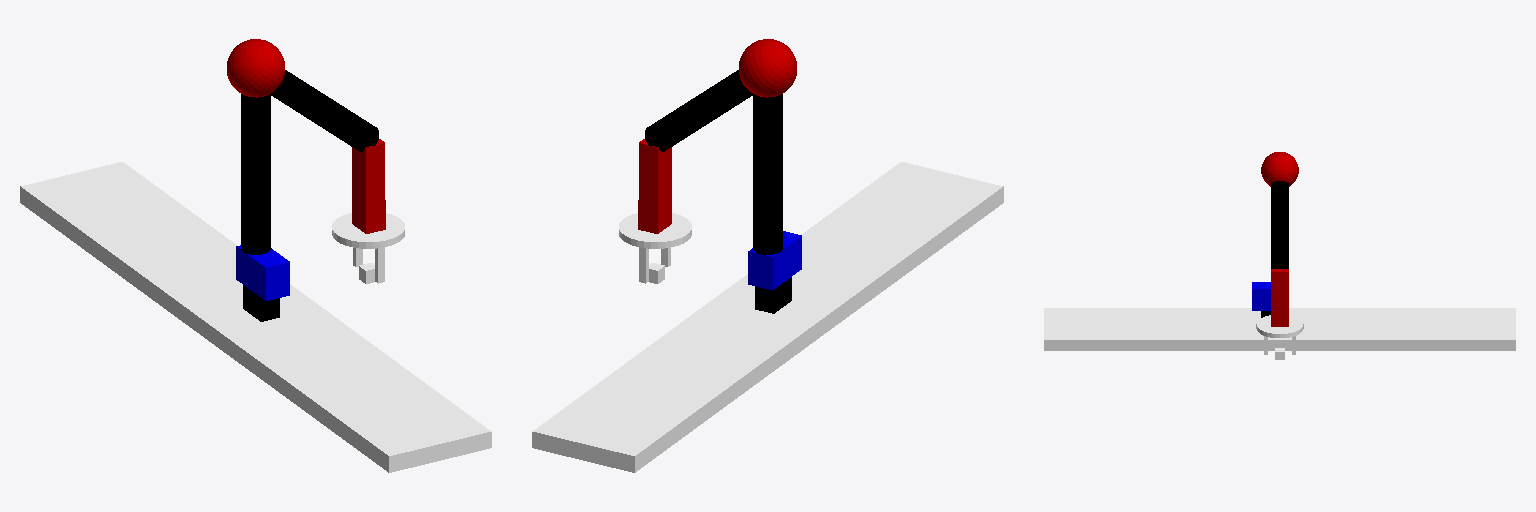
The robot description file, URDF, robot "robotic_arm":
<?xml version="1.0" ?>
<!-- =================================================================================== -->
<!-- |    This document was autogenerated by xacro from test.xacro                     | -->
<!-- |    EDITING THIS FILE BY HAND IS NOT RECOMMENDED                                 | -->
<!-- =================================================================================== -->
<robot name="robotic_arm" xmlns:xacro="http://www.ros.org/wiki/xacro">
  <!-- Include materials -->
  <material name="Blue">
    <color rgba="0.0 0.0 1.0 1.0"/>
  </material>
  <material name="Yellow">
    <color rgba="1.0 1.0 0.0 1.0"/>
  </material>
  <material name="Black">
    <color rgba="0.0 0.0 0.0 1.0"/>
  </material>
  <material name="Red">
    <color rgba="0.8 0.0 0.0 1.0"/>
  </material>
  <material name="Green">
    <color rgba="0 0.5 0 1.0"/>
  </material>
  <material name="White">
    <color rgba="1.0 1.0 1.0 1.0"/>
  </material>
  <!-- ///////////////////////////////////////////////////////////////////////////////////////////////////////////////////// -->
  <!-- ///////////////////////////////////////////////////////////////////////////////////////////////////////////////////// -->
  <!-- BOTTOM LINK -->
  <link name="bottom_link">
    <visual>
      <origin rpy="0 0 0" xyz="0 0 0.0125"/>
      <geometry>
        <box size="0.16 1 0.025"/>
        <!-- 0.15 0.15 0.1 -->
      </geometry>
      <material name="White"/>
    </visual>
    <collision>
      <origin rpy="0 0 0" xyz="0 0 0.0125"/>
      <geometry>
        <box size="0.16 1 0.025"/>
      </geometry>
    </collision>
    &gt;
           
    <inertial>
      <mass value="100"/>
      <inertia ixx="1.0" ixy="0.0" ixz="0.0" iyy="0.5" iyz="0.0" izz="1.0"/>
    </inertial>
  </link>
  <gazebo reference="bottom_link">
    <material>Gazebo/White</material>
  </gazebo>
  <!-- ///////////////////////////////////////////////////////////////////////////////////////////////////////////////////// -->
  <!-- ///////////////////////////////////////////////////////////////////////////////////////////////////////////////////// -->
  <joint name="bottom_joint" type="fixed">
    <parent link="bottom_link"/>
    <child link="base_link"/>
    <origin rpy="0 0 0" xyz="0 0 0.025"/>
  </joint>
  <!-- BASE LINK -->
  <link name="base_link">
    <visual>
      <origin rpy="0 0 0" xyz="0 -0.015 0.02"/>
      <geometry>
        <box size="0.03 .05 0.04"/>
      </geometry>
      <material name="Black"/>
    </visual>
    <collision>
      <origin rpy="0 0 0" xyz="0 -0.015 0.02"/>
      <geometry>
        <box size="0.03 0.05 0.04"/>
      </geometry>
    </collision>
    &gt;
           
    <inertial>
      <mass value="1"/>
      <inertia ixx="1.0" ixy="0.0" ixz="0.0" iyy="0.5" iyz="0.0" izz="1.0"/>
    </inertial>
  </link>
  <gazebo reference="base_link">
    <material>Gazebo/Black</material>
  </gazebo>
  <!-- ///////////////////////////////////////////////////////////////////////////////////////////////////////////////////// -->
  <!-- ///////////////////////////////////////////////////////////////////////////////////////////////////////////////////// -->
  <joint name="shoulder_pan_joint" type="revolute">
    <parent link="base_link"/>
    <child link="shoulder_pan_link"/>
    <origin rpy="0 0 0" xyz="0 0 0.04"/>
    <axis xyz="0 0 1"/>
    <limit effort="300" lower="-3.4" upper="1.82" velocity="1"/>
    <dynamics damping="50" friction="1"/>
  </joint>
  <!-- SHOULDER PAN LINK -->
  <link name="shoulder_pan_link">
    <visual>
      <origin rpy="0 0 0" xyz="0 -0.02 0.025"/>
      <geometry>
        <box size="0.038 0.08 0.05"/>
      </geometry>
      <material name="Blue"/>
    </visual>
    <collision>
      <origin rpy="0 0 0" xyz="0 -0.02 0.025"/>
      <geometry>
        <box size="0.038 0.08 0.05"/>
      </geometry>
    </collision>
    <inertial>
      <mass value="1"/>
      <inertia ixx="1.0" ixy="0.0" ixz="0.0" iyy="0.5" iyz="0.0" izz="1.0"/>
    </inertial>
  </link>
  <gazebo reference="shoulder_pan_link">
    <material>Gazebo/Blue</material>
  </gazebo>
  <!-- ///////////////////////////////////////////////////////////////////////////////////////////////////////////////////// -->
  <!-- ///////////////////////////////////////////////////////////////////////////////////////////////////////////////////// -->
  <joint name="shoulder_pitch_joint" type="revolute">
    <parent link="shoulder_pan_link"/>
    <child link="shoulder_pitch_link"/>
    <origin rpy="0 0 0" xyz="0 0 0.05"/>
    <axis xyz="0 1 0"/>
    <limit effort="300" lower="-0.52" upper="0.52" velocity="1"/>
    <dynamics damping="50" friction="1"/>
  </joint>
  <!-- SHOULDER PITCH LINK -->
  <link name="shoulder_pitch_link">
    <visual>
      <origin rpy="0 0 0" xyz="0 0 0"/>
      <geometry>
        <box size="0 0 0"/>
      </geometry>
      <material name="Blue"/>
    </visual>
    <collision>
      <origin rpy="0 0 0" xyz="0 0 0"/>
      <geometry>
        <box size="0 0 0"/>
      </geometry>
    </collision>
    <inertial>
      <mass value="1"/>
      <inertia ixx="1.0" ixy="0.0" ixz="0.0" iyy="0.5" iyz="0.0" izz="1.0"/>
    </inertial>
  </link>
  <gazebo reference="shoulder_pitch_link">
    <material>Gazebo/Blue</material>
  </gazebo>
  <!-- ///////////////////////////////////////////////////////////////////////////////////////////////////////////////////// -->
  <!-- ///////////////////////////////////////////////////////////////////////////////////////////////////////////////////// -->
  <joint name="shoulder_yaw_joint" type="revolute">
    <parent link="shoulder_pitch_link"/>
    <child link="shoulder_yaw_link"/>
    <origin rpy="0 0 0" xyz="0 0 0"/>
    <axis xyz="1 0 0"/>
    <limit effort="300" lower="-0.5" upper="0.5" velocity="1"/>
    <dynamics damping="50" friction="1"/>
  </joint>
  <!-- SHOULDER YAW LINK -->
  <link name="shoulder_yaw_link">
    <visual>
      <origin rpy="0 0 0" xyz="0 0 0.135"/>
      <geometry>
        <cylinder length="0.27" radius="0.02"/>
      </geometry>
      <material name="Black"/>
    </visual>
    <collision>
      <origin rpy="0 0 0" xyz="0 0 0.135"/>
      <geometry>
        <cylinder length="0.27" radius="0.02"/>
      </geometry>
    </collision>
    <inertial>
      <mass value="1"/>
      <inertia ixx="1.0" ixy="0.0" ixz="0.0" iyy="0.5" iyz="0.0" izz="1.0"/>
    </inertial>
  </link>
  <gazebo reference="shoulder_yaw_link">
    <material>Gazebo/Black</material>
  </gazebo>
  <!-- ///////////////////////////////////////////////////////////////////////////////////////////////////////////////////// -->
  <!-- ///////////////////////////////////////////////////////////////////////////////////////////////////////////////////// -->
  <joint name="elbow_pitch_joint" type="revolute">
    <parent link="shoulder_yaw_link"/>
    <child link="elbow_pitch_link"/>
    <origin rpy="0 2.27 0" xyz="0 0 0.27"/>
    <axis xyz="0 1 0"/>
    <limit effort="300" lower="-2.27" upper="0" velocity="1"/>
    <dynamics damping="50" friction="1"/>
  </joint>
  <!-- ELBOW PITCH LINK -->
  <link name="elbow_pitch_link">
    <visual>
      <origin rpy="0 0 0" xyz="0 0 0"/>
      <geometry>
        <sphere radius="0.04"/>
      </geometry>
      <material name="Red"/>
    </visual>
    <collision>
      <origin rpy="0 0 0" xyz="0 0 0"/>
      <geometry>
        <sphere radius="0.04"/>
      </geometry>
    </collision>
    <inertial>
      <mass value="1"/>
      <inertia ixx="1.0" ixy="0.0" ixz="0.0" iyy="0.5" iyz="0.0" izz="1.0"/>
    </inertial>
  </link>
  <gazebo reference="elbow_pitch_link">
    <material>Gazebo/Red</material>
  </gazebo>
  <!-- ///////////////////////////////////////////////////////////////////////////////////////////////////////////////////// -->
  <!-- ///////////////////////////////////////////////////////////////////////////////////////////////////////////////////// -->
  <joint name="elbow_roll_joint" type="revolute">
    <parent link="elbow_pitch_link"/>
    <child link="elbow_roll_link"/>
    <origin rpy="0 0 0" xyz="0 0 0"/>
    <axis xyz="0 0 1"/>
    <limit effort="300" lower="-2.62" upper="2.62" velocity="1"/>
    <dynamics damping="50" friction="1"/>
  </joint>
  <!-- ELBOW ROLL LINK -->
  <link name="elbow_roll_link">
    <visual>
      <origin rpy="0 0 0" xyz="0 0 0.115"/>
      <geometry>
        <cylinder length="0.23" radius="0.02"/>
      </geometry>
      <material name="Black"/>
    </visual>
    <collision>
      <origin rpy="0 0 0" xyz="0 0 0.115"/>
      <geometry>
        <cylinder length="0.23" radius="0.02"/>
      </geometry>
    </collision>
    <inertial>
      <mass value="1"/>
      <inertia ixx="1.0" ixy="0.0" ixz="0.0" iyy="0.5" iyz="0.0" izz="1.0"/>
    </inertial>
  </link>
  <gazebo reference="elbow_roll_link">
    <material>Gazebo/Black</material>
  </gazebo>
  <!-- ///////////////////////////////////////////////////////////////////////////////////////////////////////////////////// -->
  <!-- ///////////////////////////////////////////////////////////////////////////////////////////////////////////////////// -->
  <joint name="wrist_pitch_joint" type="revolute">
    <parent link="elbow_roll_link"/>
    <child link="wrist_pitch_link"/>
    <origin rpy="0 0.87 0" xyz="0 0 0.23"/>
    <axis xyz="0 1 0"/>
    <limit effort="300" lower="-2.44" upper="0.7" velocity="1"/>
    <dynamics damping="50" friction="1"/>
  </joint>
  <!-- WRIST PITCH LINK -->
  <link name="wrist_pitch_link">
    <visual>
      <origin rpy="0 0 0" xyz="0 0 0.025"/>
      <geometry>
        <box size="0.03 0.04 0.05"/>
      </geometry>
      <material name="Red"/>
    </visual>
    <collision>
      <origin rpy="0 0 0" xyz="0 0 0.025"/>
      <geometry>
        <box size="0.03 0.04 0.05"/>
      </geometry>
    </collision>
    <inertial>
      <mass value="1"/>
      <inertia ixx="1.0" ixy="0.0" ixz="0.0" iyy="0.5" iyz="0.0" izz="1.0"/>
    </inertial>
  </link>
  <gazebo reference="wrist_pitch_link">
    <material>Gazebo/Red</material>
  </gazebo>
  <!-- ///////////////////////////////////////////////////////////////////////////////////////////////////////////////////// -->
  <!-- ///////////////////////////////////////////////////////////////////////////////////////////////////////////////////// -->
  <joint name="wrist_joint" type="fixed">
    <parent link="wrist_pitch_link"/>
    <child link="wrist_link"/>
    <origin rpy="0 0 0" xyz="0 0 0.05"/>
  </joint>
  <!-- WRIST LINK -->
  <link name="wrist_link">
    <visual>
      <origin rpy="0 0 0" xyz="0 0 0.04"/>
      <geometry>
        <box size="0.03 0.04 0.08"/>
      </geometry>
      <material name="Red"/>
    </visual>
    <collision>
      <origin rpy="0 0 0" xyz="0 0 0.025"/>
      <geometry>
        <box size="0.03 0.04 0.05"/>
      </geometry>
    </collision>
    <inertial>
      <mass value="1"/>
      <inertia ixx="1.0" ixy="0.0" ixz="0.0" iyy="0.5" iyz="0.0" izz="1.0"/>
    </inertial>
  </link>
  <gazebo reference="wrist_link">
    <material>Gazebo/Red</material>
  </gazebo>
  <!-- ///////////////////////////////////////////////////////////////////////////////////////////////////////////////////// -->
  <!-- ///////////////////////////////////////////////////////////////////////////////////////////////////////////////////// -->
  <joint name="grabber_joint" type="fixed">
    <parent link="wrist_link"/>
    <child link="grabber_link"/>
    <origin rpy="0 0 0" xyz="0 0 0.08"/>
  </joint>
  <!-- GRABBER LINK -->
  <link name="grabber_link">
    <visual>
      <origin rpy="0 0 0" xyz="0 0 0.005"/>
      <geometry>
        <cylinder length="0.01" radius="0.05"/>
      </geometry>
      <material name="White"/>
    </visual>
    <collision>
      <origin rpy="0 0 0" xyz="0 0 0.005"/>
      <geometry>
        <cylinder length="0.01" radius="0.03"/>
      </geometry>
    </collision>
    <inertial>
      <mass value="1"/>
      <inertia ixx="1.0" ixy="0.0" ixz="0.0" iyy="0.5" iyz="0.0" izz="1.0"/>
    </inertial>
  </link>
  <gazebo reference="grabber_link">
    <material>Gazebo/White</material>
  </gazebo>
  <!-- ///////////////////////////////////////////////////////////////////////////////////////////////////////////////////// -->
  <!-- ///////////////////////////////////////////////////////////////////////////////////////////////////////////////////// -->
  <joint name="finger_joint1" type="fixed">
    <parent link="grabber_link"/>
    <child link="finger_link1"/>
    <origin xyz="0.0 0 0.01"/>
    <!--    <axis xyz="0 1 0" />
     <limit effort="100" lower="0" upper="0.03" velocity="1.0"/>-->
  </joint>
  <!-- FINGER LINK 1-->
  <link name="finger_link1">
    <visual>
      <origin xyz="0 -0.03 0.03"/>
      <geometry>
        <box size="0.01 0.01 0.06"/>
      </geometry>
      <material name="White"/>
    </visual>
    <inertial>
      <mass value="1"/>
      <inertia ixx="1.0" ixy="0.0" ixz="0.0" iyy="0.5" iyz="0.0" izz="1.0"/>
    </inertial>
  </link>
  <gazebo reference="finger_link1">
    <material>Gazebo/White</material>
  </gazebo>
  <!-- ///////////////////////////////////////////////////////////////////////////////////////////////////////////////////// -->
  <!-- ///////////////////////////////////////////////////////////////////////////////////////////////////////////////////// -->
  <joint name="finger_joint2" type="fixed">
    <parent link="grabber_link"/>
    <child link="finger_link2"/>
    <origin xyz="0.0 0 0.01"/>
    <!--    <axis xyz="0 1 0" />
     <limit effort="100" lower="-0.03" upper="0" velocity="1.0"/>-->
  </joint>
  <!-- FINGER LINK 2-->
  <link name="finger_link2">
    <visual>
      <origin xyz="0 0.03 0.03"/>
      <geometry>
        <box size="0.01 0.01 0.06"/>
      </geometry>
      <material name="White"/>
    </visual>
    <inertial>
      <mass value="1"/>
      <inertia ixx="1.0" ixy="0.0" ixz="0.0" iyy="0.5" iyz="0.0" izz="1.0"/>
    </inertial>
  </link>
  <gazebo reference="finger_link2">
    <material>Gazebo/White</material>
  </gazebo>
  <!-- ///////////////////////////////////////////////////////////////////////////////////////////////////////////////////// -->
  <!-- ///////////////////////////////////////////////////////////////////////////////////////////////////////////////////// -->
  <joint name="grasping_frame_joint" type="fixed">
    <parent link="grabber_link"/>
    <child link="grasping_frame"/>
    <origin rpy="0 0 0" xyz="0 0 0.07"/>
  </joint>
  <!-- Grasping frame -->
  <link name="grasping_frame">
    <inertial>
      <origin rpy="0 0 0" xyz="0 0 0"/>
      <mass value="0.0001"/>
      <cuboid_inertia mass="0.0001" x="0.001" y="0.001" z="0.001"/>
      <inertia ixx="1.0" ixy="0.0" ixz="0.0" iyy="100.0" iyz="0.0" izz="1.0"/>
    </inertial>
    <visual>
      <origin xyz="0 0 0"/>
      <geometry>
        <box size="0.02 0.02 0.02"/>
      </geometry>
      <material name="White"/>
    </visual>
  </link>
  <!-- ///////////////////////////////////////////////////////////////////////////////////////////////////////////////////// -->
  <!-- ///////////////////////////////////////////////////////////////////////////////////////////////////////////////////// -->
  <transmission name="tran1">
    <type>transmission_interface/SimpleTransmission</type>
    <joint name="shoulder_pan_joint">
      <hardwareInterface>PositionJointInterface</hardwareInterface>
    </joint>
    <actuator name="motor1">
      <hardwareInterface>PositionJointInterface</hardwareInterface>
      <mechanicalReduction>1</mechanicalReduction>
    </actuator>
  </transmission>
  <transmission name="tran1">
    <type>transmission_interface/SimpleTransmission</type>
    <joint name="shoulder_pitch_joint">
      <hardwareInterface>PositionJointInterface</hardwareInterface>
    </joint>
    <actuator name="motor1">
      <hardwareInterface>PositionJointInterface</hardwareInterface>
      <mechanicalReduction>1</mechanicalReduction>
    </actuator>
  </transmission>
  <transmission name="tran1">
    <type>transmission_interface/SimpleTransmission</type>
    <joint name="shoulder_yaw_joint">
      <hardwareInterface>PositionJointInterface</hardwareInterface>
    </joint>
    <actuator name="motor1">
      <hardwareInterface>PositionJointInterface</hardwareInterface>
      <mechanicalReduction>1</mechanicalReduction>
    </actuator>
  </transmission>
  <transmission name="tran1">
    <type>transmission_interface/SimpleTransmission</type>
    <joint name="elbow_pitch_joint">
      <hardwareInterface>PositionJointInterface</hardwareInterface>
    </joint>
    <actuator name="motor1">
      <hardwareInterface>PositionJointInterface</hardwareInterface>
      <mechanicalReduction>1</mechanicalReduction>
    </actuator>
  </transmission>
  <transmission name="tran1">
    <type>transmission_interface/SimpleTransmission</type>
    <joint name="elbow_roll_joint">
      <hardwareInterface>PositionJointInterface</hardwareInterface>
    </joint>
    <actuator name="motor1">
      <hardwareInterface>PositionJointInterface</hardwareInterface>
      <mechanicalReduction>1</mechanicalReduction>
    </actuator>
  </transmission>
  <transmission name="tran1">
    <type>transmission_interface/SimpleTransmission</type>
    <joint name="wrist_pitch_joint">
      <hardwareInterface>PositionJointInterface</hardwareInterface>
    </joint>
    <actuator name="motor1">
      <hardwareInterface>PositionJointInterface</hardwareInterface>
      <mechanicalReduction>1</mechanicalReduction>
    </actuator>
  </transmission>
  <!-- ros_control plugin -->
  <gazebo>
    <plugin filename="libgazebo_ros_control.so" name="gazebo_ros_control">
      <robotNamespace>/robotic_arm</robotNamespace>
    </plugin>
  </gazebo>
</robot>

--- What the picture shows (computed from the rendered views, not written in the file) ---
The picture shows the robot from 3 angles, left to right: view 1: azimuth 30°, elevation 25°; view 2: azimuth 150°, elevation 25°; view 3: azimuth 270°, elevation 25°; orthographic projection.
Robot: robotic_arm — 13 links, 12 joints (6 revolute, 6 fixed); root link bottom_link; default pose: every joint at zero.
Visible links, largest first — view 1: bottom_link, shoulder_yaw_link, elbow_roll_link, elbow_pitch_link, shoulder_pan_link, wrist_link, grabber_link, wrist_pitch_link, base_link; view 2: bottom_link, shoulder_yaw_link, elbow_roll_link, elbow_pitch_link, shoulder_pan_link, wrist_link, grabber_link, wrist_pitch_link, base_link; view 3: bottom_link, elbow_roll_link, elbow_pitch_link, grabber_link, wrist_link, shoulder_pan_link.
Boxes of the visible links, x1,y1,x2,y2 form: bottom_link: [20, 162, 491, 472]; shoulder_yaw_link: [241, 94, 270, 254]; elbow_roll_link: [271, 70, 378, 151]; elbow_pitch_link: [227, 39, 284, 97]; shoulder_pan_link: [236, 245, 289, 300]; wrist_link: [352, 171, 385, 233]; grabber_link: [332, 213, 404, 248]; wrist_pitch_link: [352, 139, 384, 180]; base_link: [243, 285, 279, 321]; bottom_link: [532, 162, 1003, 472]; shoulder_yaw_link: [753, 94, 782, 254]; elbow_roll_link: [645, 70, 752, 151]; elbow_pitch_link: [739, 39, 796, 97]; shoulder_pan_link: [748, 231, 801, 290]; wrist_link: [638, 171, 671, 233]; grabber_link: [619, 213, 691, 248]; wrist_pitch_link: [639, 139, 671, 180]; base_link: [755, 277, 791, 313]; bottom_link: [1044, 308, 1515, 350]; elbow_roll_link: [1271, 181, 1288, 268]; elbow_pitch_link: [1261, 152, 1298, 186]; grabber_link: [1256, 315, 1303, 337]; wrist_link: [1271, 293, 1288, 326]; shoulder_pan_link: [1252, 282, 1270, 310].
Size in the robot's own frame: 0.3063 by 1 by 0.4249 metres.
Geometry: primitives only (box / cylinder / sphere), no mesh files.
